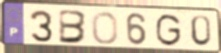0: (189, 15, 213, 48)
3: (29, 9, 54, 44)
6: (125, 12, 148, 47)
B: (58, 9, 89, 45)
G: (155, 13, 183, 48)
O: (90, 10, 119, 45)
